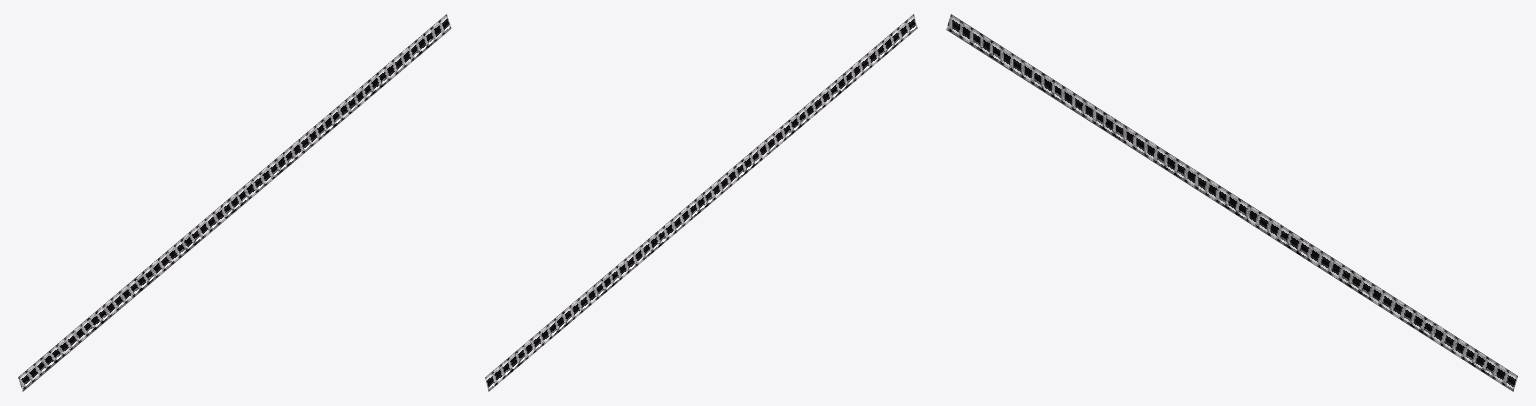
3 views of the same model, side by side, from view 1: azimuth 30°, elevation 25°; view 2: azimuth 210°, elevation 25°; view 3: azimuth 270°, elevation 25° (orthographic). The views are drawn at different scales.
Visible parts, largest first — view 1: Cylinder04; view 2: Cylinder04; view 3: Cylinder04.
Part boxes in pixels (x1,y1,x2,y2): Cylinder04: (18, 14, 451, 391); Cylinder04: (485, 14, 917, 391); Cylinder04: (946, 14, 1517, 391).
Bounding box in the file's own units: 350 × 6.54 × 234.
Materials: 1 (1 with a texture image).
